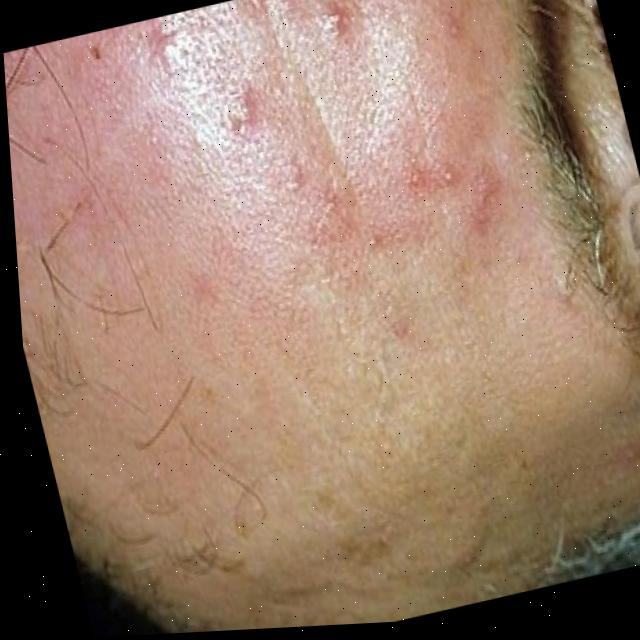Rosacea: (134, 0, 493, 295)
